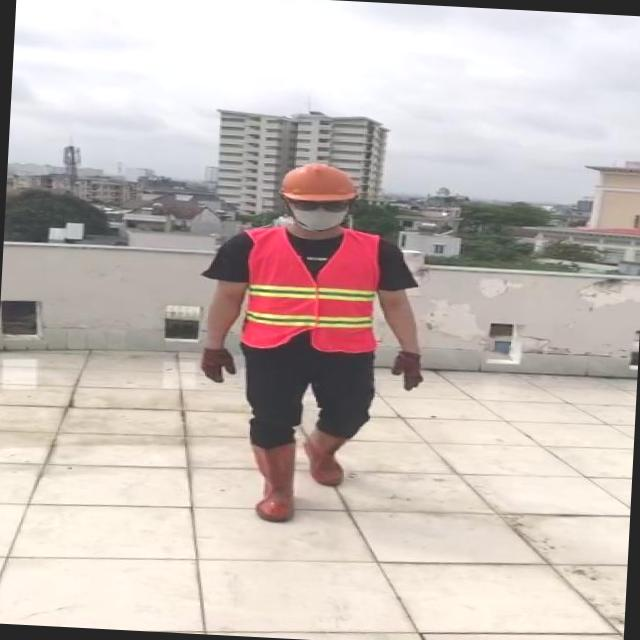boots: (242, 441, 300, 523), (301, 428, 348, 488)
gloves: (389, 350, 428, 393), (200, 346, 238, 387)
helmet: (276, 159, 358, 203)
vest: (235, 226, 382, 356)
